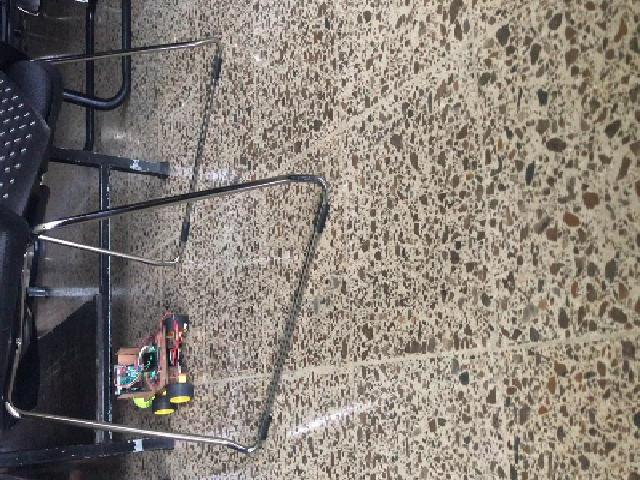Ball: (130, 397, 152, 408)
Robot: (115, 314, 189, 414)
